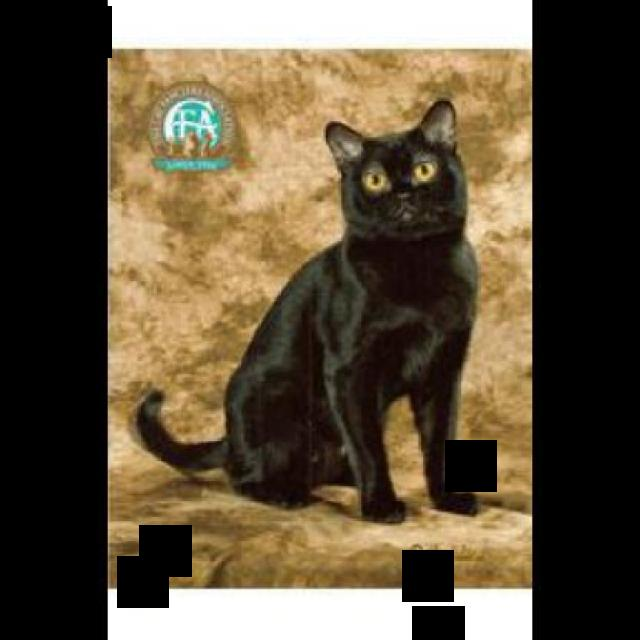unauthorized: (134, 97, 480, 525)
